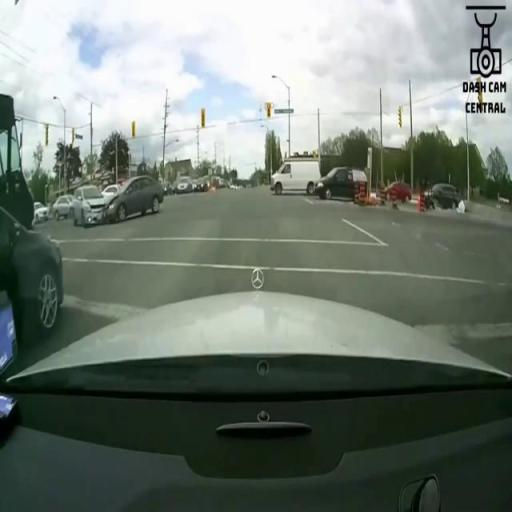小汽车: (268, 154, 320, 200), (318, 162, 375, 200), (416, 184, 468, 210), (375, 180, 420, 210), (54, 192, 86, 218), (175, 172, 192, 192)
小汽车撞小汽车: (74, 175, 164, 227)
